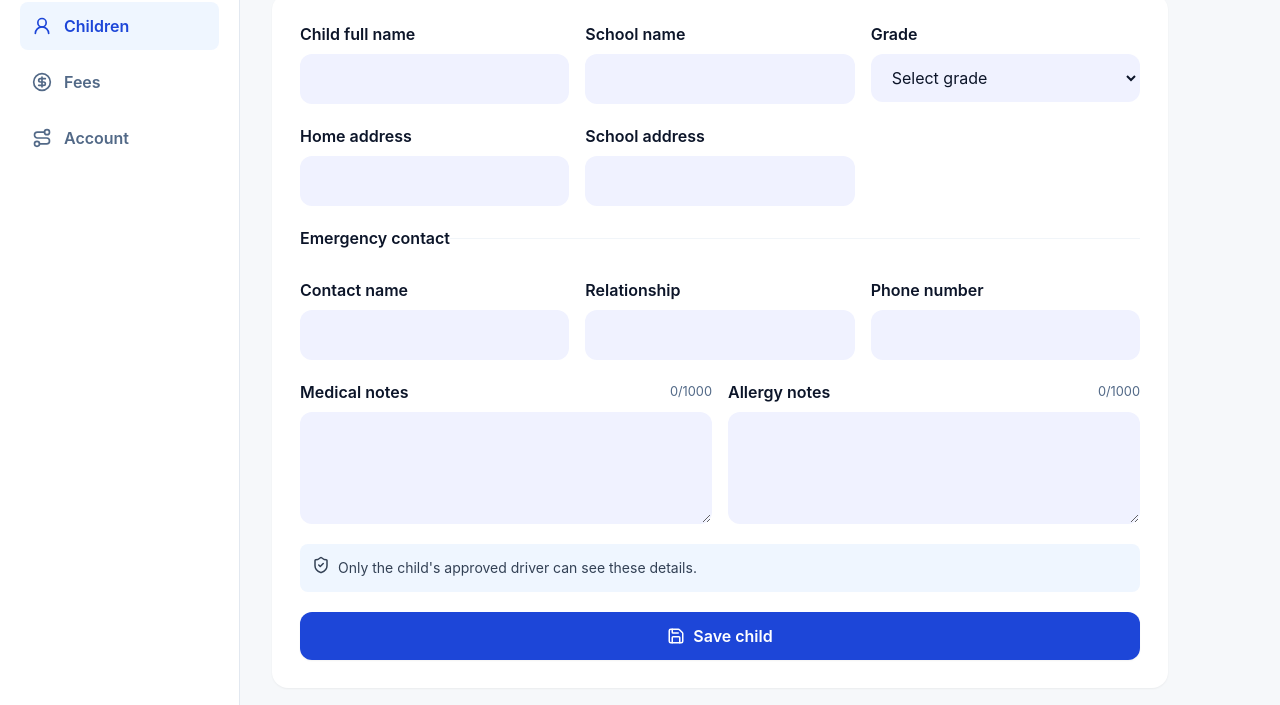
Scenario: next five parent frontend screens › S14 blocks an empty child profile
(page scrolled)
Click the button "Save child". click: (720, 636)
box: [300,612,1140,660]
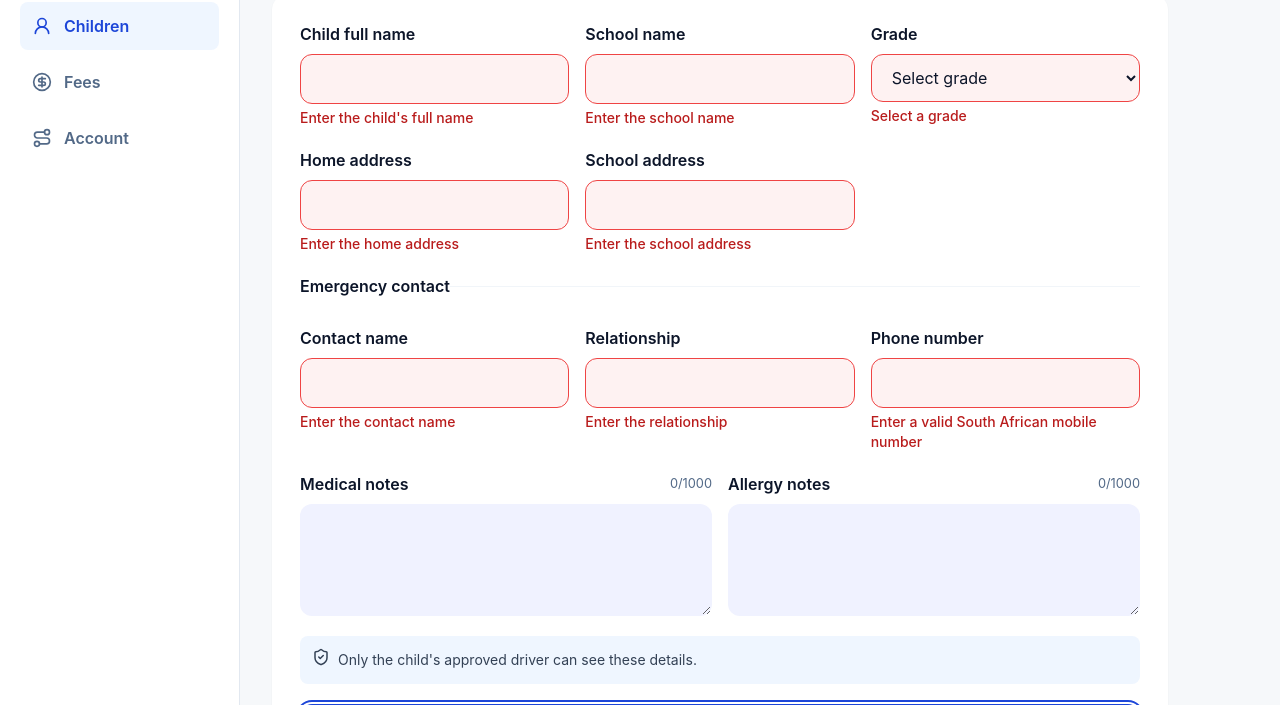
Now the text "Enter the child's full name" is shown, box [300,109,473,126]
